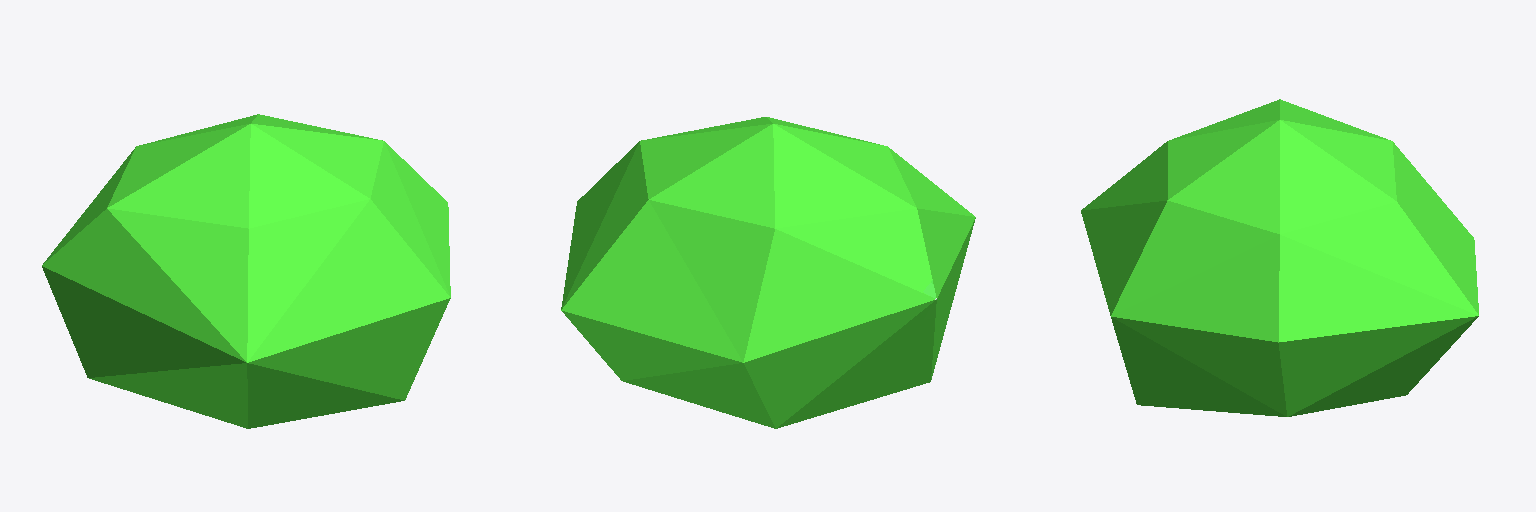
3 views of the same model, side by side, from view 1: azimuth 30°, elevation 25°; view 2: azimuth 150°, elevation 25°; view 3: azimuth 270°, elevation 25° (orthographic).
Parts seen in each view (by area): view 1: Bush.000; view 2: Bush.000; view 3: Bush.000.
Part boxes in pixels (x1,y1,x2,y2): Bush.000: (42,114,450,428); Bush.000: (561,117,975,428); Bush.000: (1081,99,1478,416).
Size of the model in its own units: 0.4417 by 0.2946 by 0.3979.
1 materials, 1 textured.